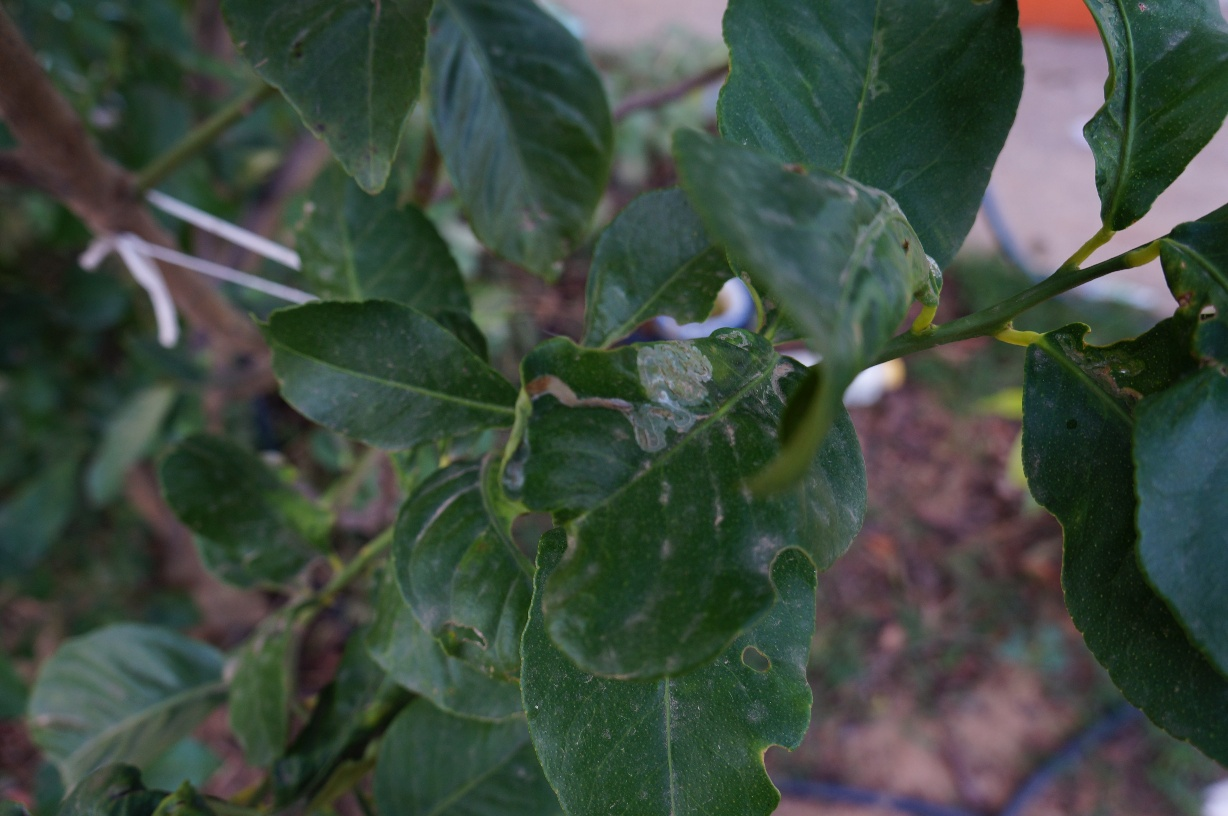damage: (622, 332, 728, 462)
